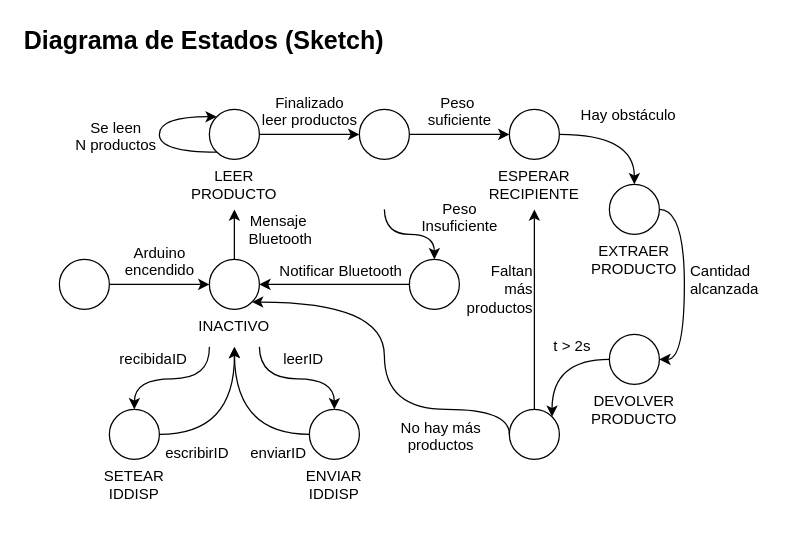
Some shapes in this 796 by 543 pixel diagram are drawn without their labels. The shapes that lost their labels are listed below. From the top down, each one's centre as x and y in pixels, then its label:
[383,133]: SENSAR PESO
[83,283]: APAGADO
[433,283]: CANT NO DISP
[533,433]: ESPERAR NO RECIPIENTE
